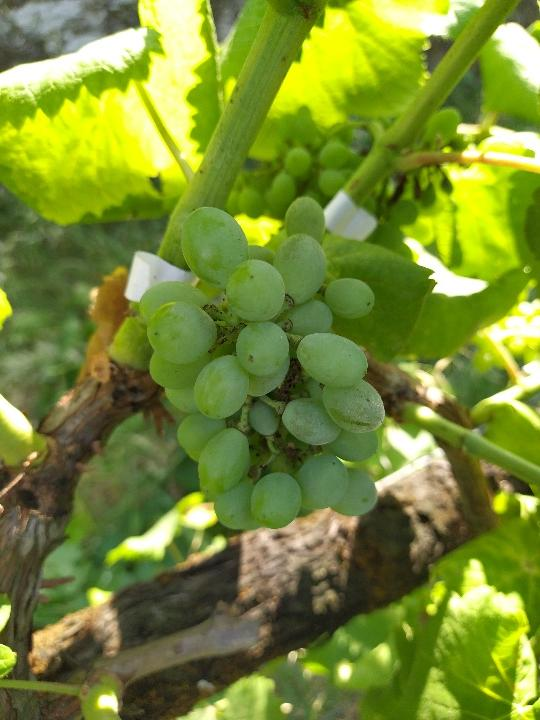grape: (133, 193, 388, 540)
